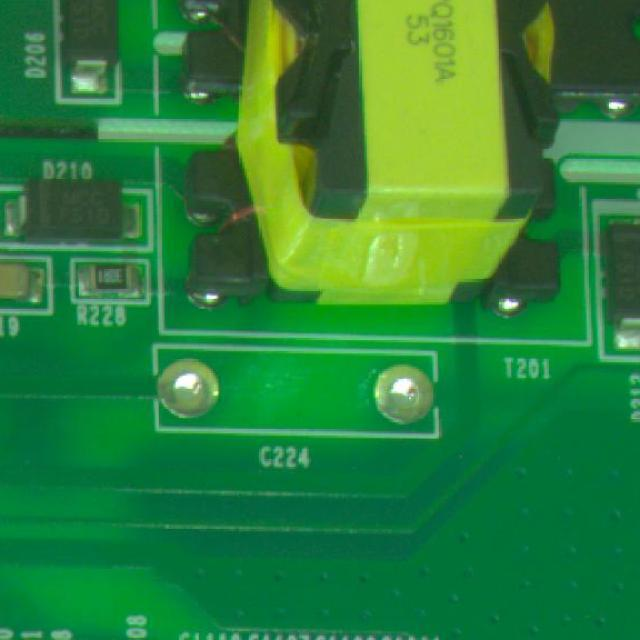Insufficient solder: (132, 344, 230, 424), (366, 333, 438, 427)
